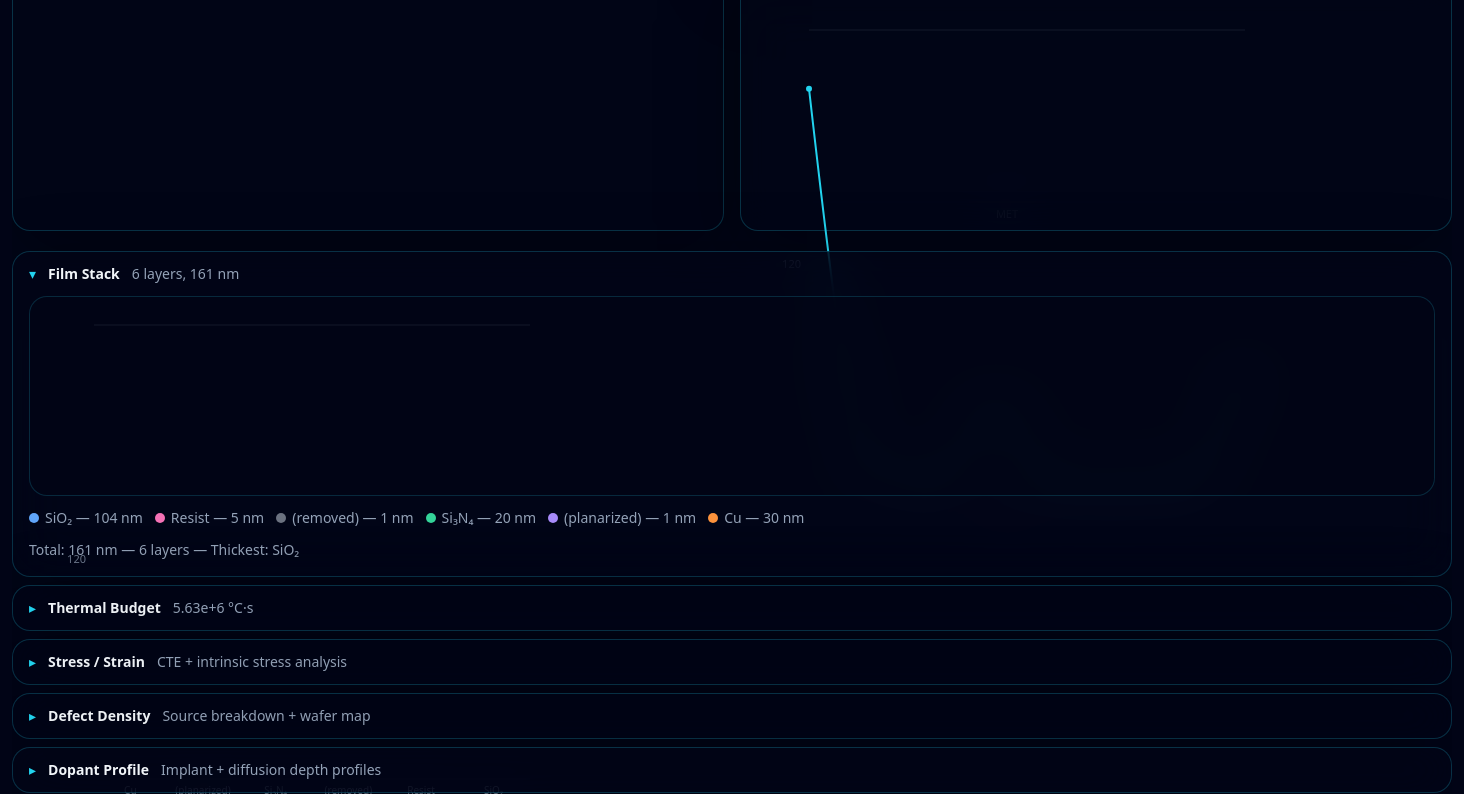
Test: VppTab › regression: renders real Unicode glyphs, never literal \u escapes
The width and height of the screenshot is (1464, 794).
(page scrolled)
Step 1. Click the text "Defect Density" → point(99, 716), box [48,706,150,726]
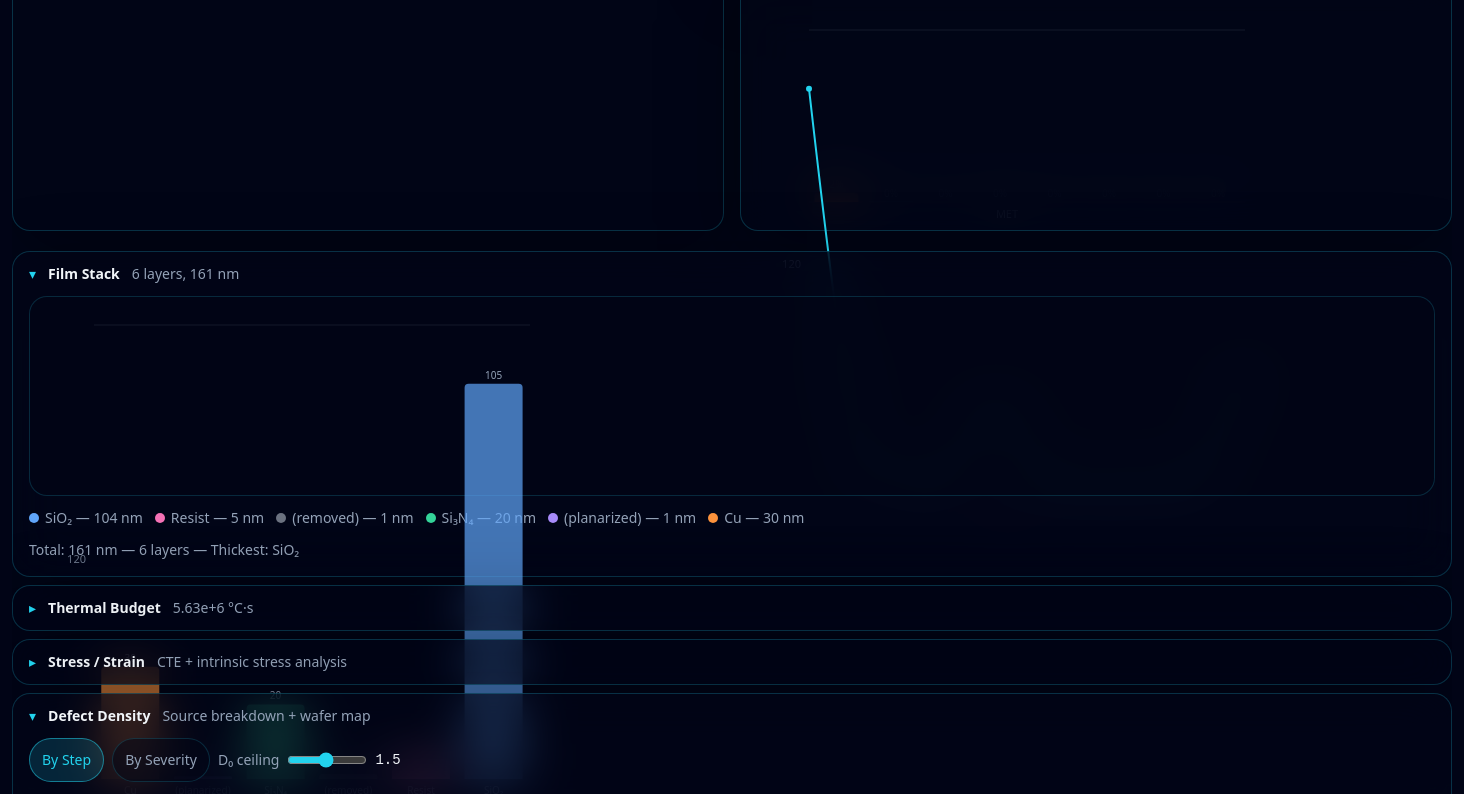
Result: the text "₀" is shown at [228,750,233,769]
